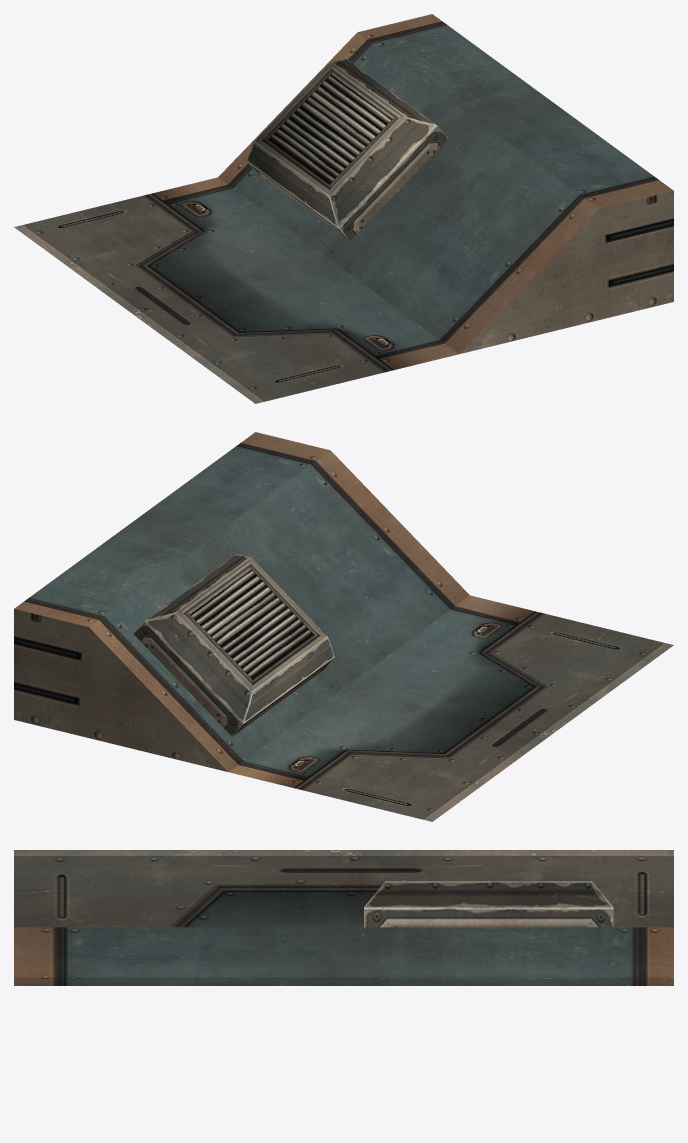
File: mprw_ceiling_angle.FBX
3 renders of one model, top to bottom at view 1: azimuth 30°, elevation 25°; view 2: azimuth 150°, elevation 25°; view 3: azimuth 270°, elevation 25°, orthographic. The views are drawn at different scales.
Parts seen in each view (by area): view 1: mprw_ceiling_angle; view 2: mprw_ceiling_angle; view 3: mprw_ceiling_angle.
Boxes of the visible parts, left/top/right/bottom form: mprw_ceiling_angle: left=14, top=14, right=673, bottom=403; mprw_ceiling_angle: left=14, top=432, right=673, bottom=821; mprw_ceiling_angle: left=14, top=850, right=673, bottom=985.
Bounding box in the file's own units: 700 × 187 × 700.
1 material, 1 textured.
